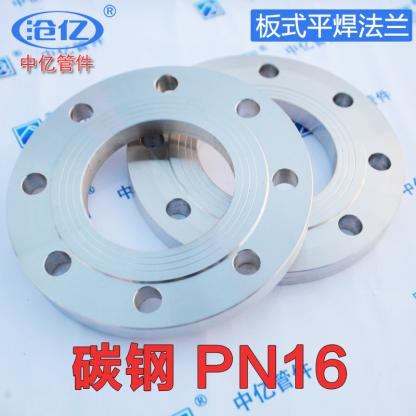FOD: (6, 64, 316, 341), (124, 44, 410, 283)
